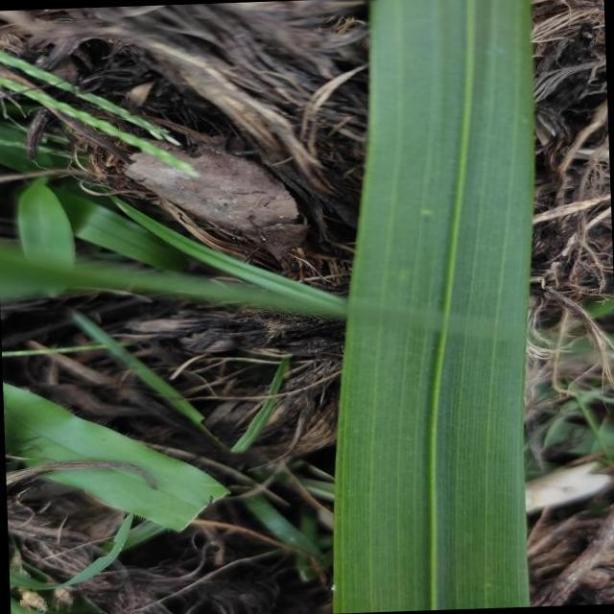Healthy: (336, 0, 532, 614)
